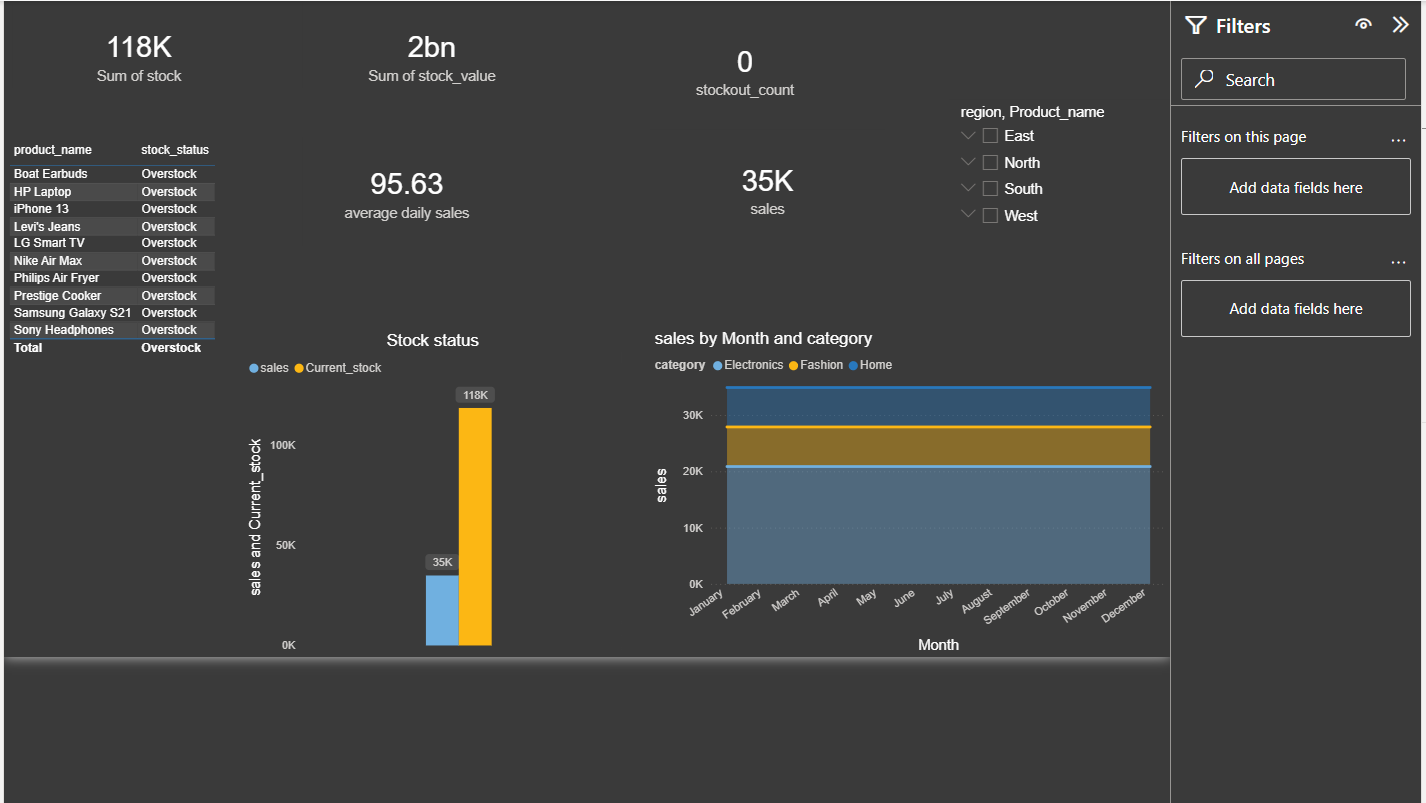

This screenshot's page, from the dashboard's own definition file:
{"tool":"powerbi","page":{"name":"Page 1","canvas":[1280,720],"ordinal":0},"visuals":[{"type":"card","fields":{"Values":["Sum(stock_transactions.stock)"]},"box":[9.6,0,277.2,118],"z":0},{"type":"card","fields":{"Values":["Sum(stock_transactions.stock_value)"]},"box":[328,0,284,118],"z":1},{"type":"card","fields":{"Values":["Table.stockout_count"]},"box":[675.1,0,277.2,149.6],"z":2},{"type":"tableEx","fields":{"Values":["inventory_master.product_name","Table.stock_status"]},"box":[0,149.6,241.5,315.6],"z":3},{"type":"clusteredColumnChart","fields":{"Y":["Table.sales","Table.Current_stock"]},"box":[263.5,362.3,414.4,358.1],"z":4},{"type":"stackedAreaChart","fields":{"Category":["stock_transactions.date.Variation.Date Hierarchy.Month"],"Y":["Table.sales"],"Series":["inventory_master.category"]},"box":[709.4,359.5,570.8,360.9],"z":5},{"type":"slicer","fields":{"Values":["sales_data.region","sales_data.Product_name"]},"box":[1037.4,108.4,242.9,172.9],"z":6},{"type":"card","fields":{"Values":["Table.average daily sales"]},"box":[328,149.6,229.2,119.4],"z":7},{"type":"card","fields":{"Values":["Table.sales"]},"box":[709.4,141.3,258,127.6],"z":8}]}

Visuals, with their boxes on the page's 1280x720 design canvas (x1, y1, x2, y2). These are canvas units, not pixel positions in the 1426x803 screenshot, which may show the page scaled, cropped or inside an application window:
card - Sum(stock_transactions.stock): 10, 0, 287, 118
card - Sum(stock_transactions.stock_value): 328, 0, 612, 118
card - Table.stockout_count: 675, 0, 952, 150
tableEx - inventory_master.product_name x Table.stock_status: 0, 150, 242, 465
clusteredColumnChart - Table.sales x Table.Current_stock: 264, 362, 678, 720
stackedAreaChart - stock_transactions.date.Variation.Date Hierarchy.Month x Table.sales: 709, 360, 1280, 720
slicer - sales_data.region x sales_data.Product_name: 1037, 108, 1280, 281
card - Table.average daily sales: 328, 150, 557, 269
card - Table.sales: 709, 141, 967, 269
